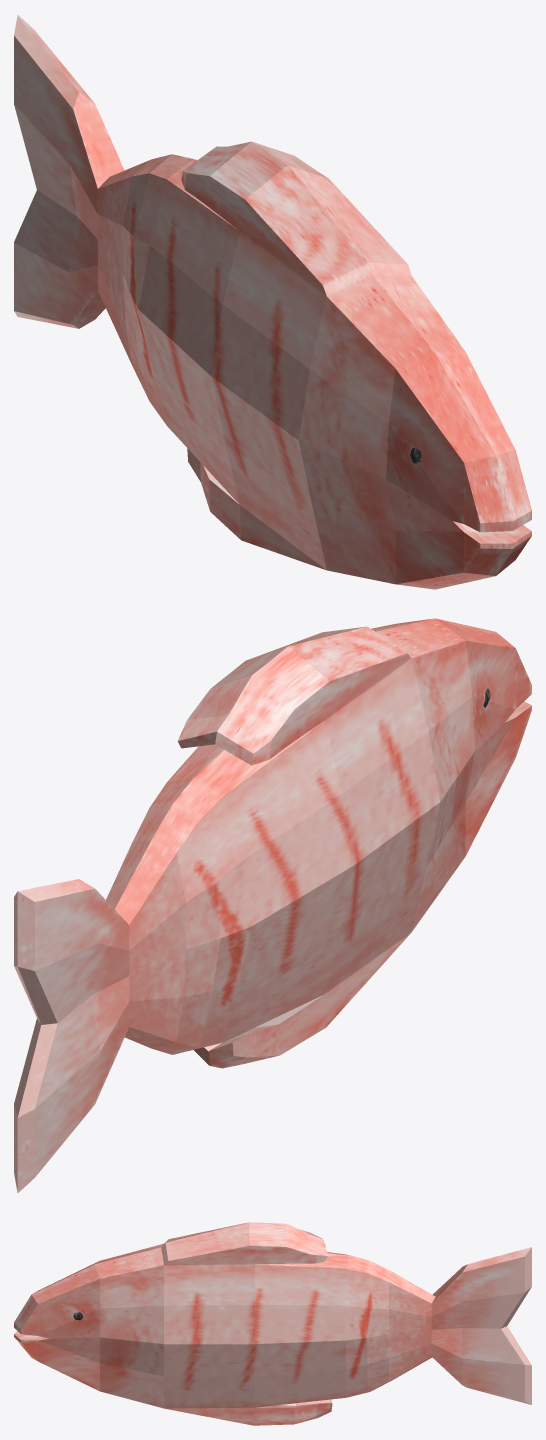
Rendered from pescado  con cortes.fbx.
The picture shows the model from 3 angles, top to bottom: view 1: azimuth 30°, elevation 25°; view 2: azimuth 150°, elevation 25°; view 3: azimuth 270°, elevation 25°; orthographic projection. The views are drawn at different scales.
Visible parts, largest first — view 1: cuerpo; view 2: cuerpo; view 3: cuerpo.
Boxes of the visible parts, bbox=[...] form: cuerpo: bbox=[14, 15, 531, 589]; cuerpo: bbox=[14, 618, 531, 1192]; cuerpo: bbox=[14, 1222, 531, 1425].
Size of the model in its own units: 95.13 by 248 by 576.
Materials: 1 (1 with a texture image).
